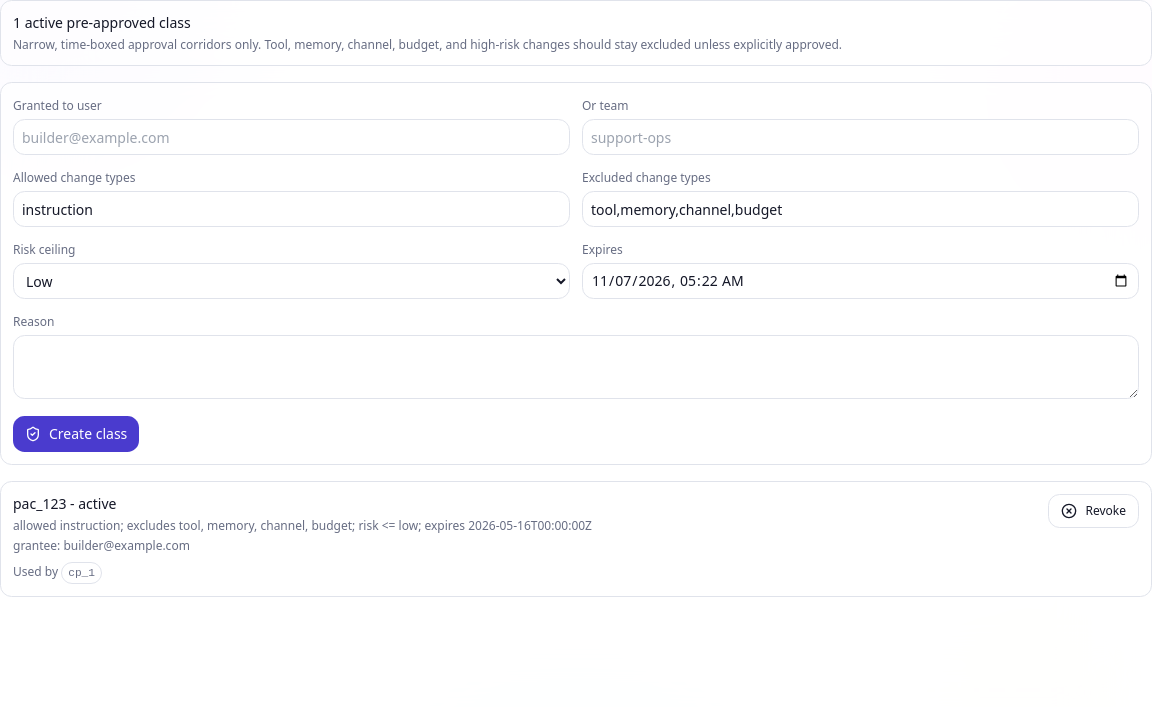
Test: PreApprovedClassesPanel › creates narrow pre-approved classes and revokes active classes
Expected: the list item with test id "preapproved-class-pac_123" shows "risk <= low", 0,481 -> 1151,597
Expected: the element with test id "preapproved-usage-pac_123" shows "Used by", 13,563 -> 61,580
Type "owner@example.com" into the field with test id "preapproved-user" at coordinates (292, 137), box 13,119 -> 570,155
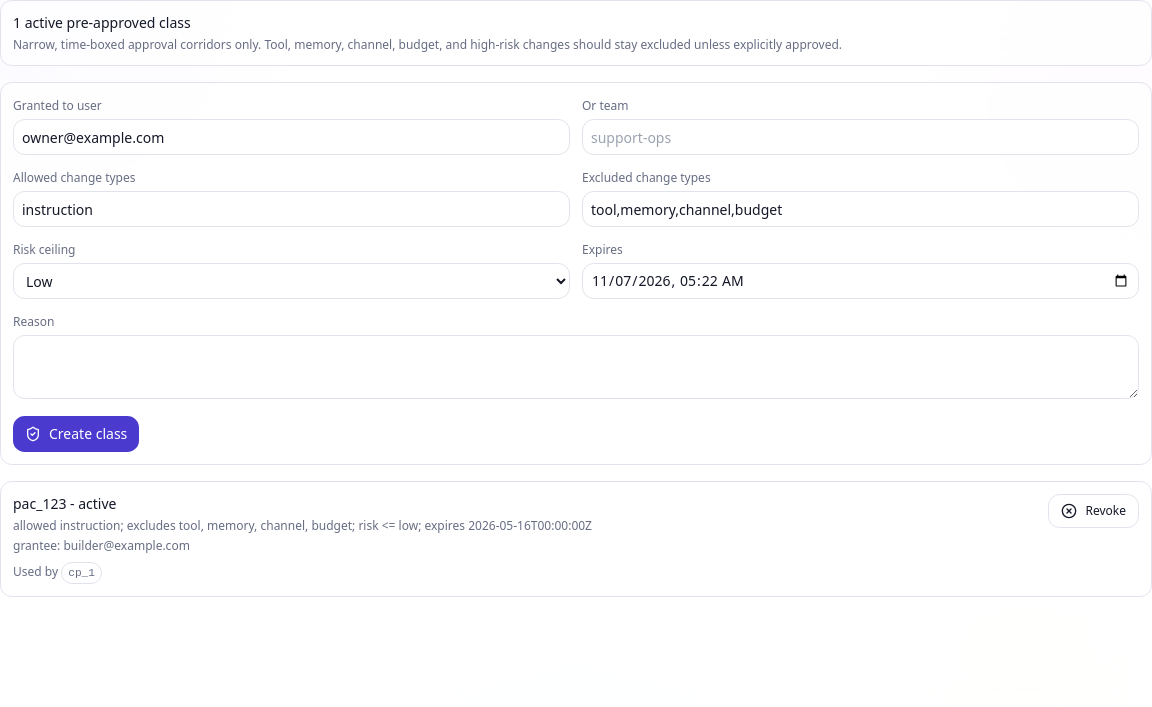
Replace the text in the field with test id "preapproved-allowed" with "instruction,tone" at coordinates (292, 209), box 13,191 -> 570,227
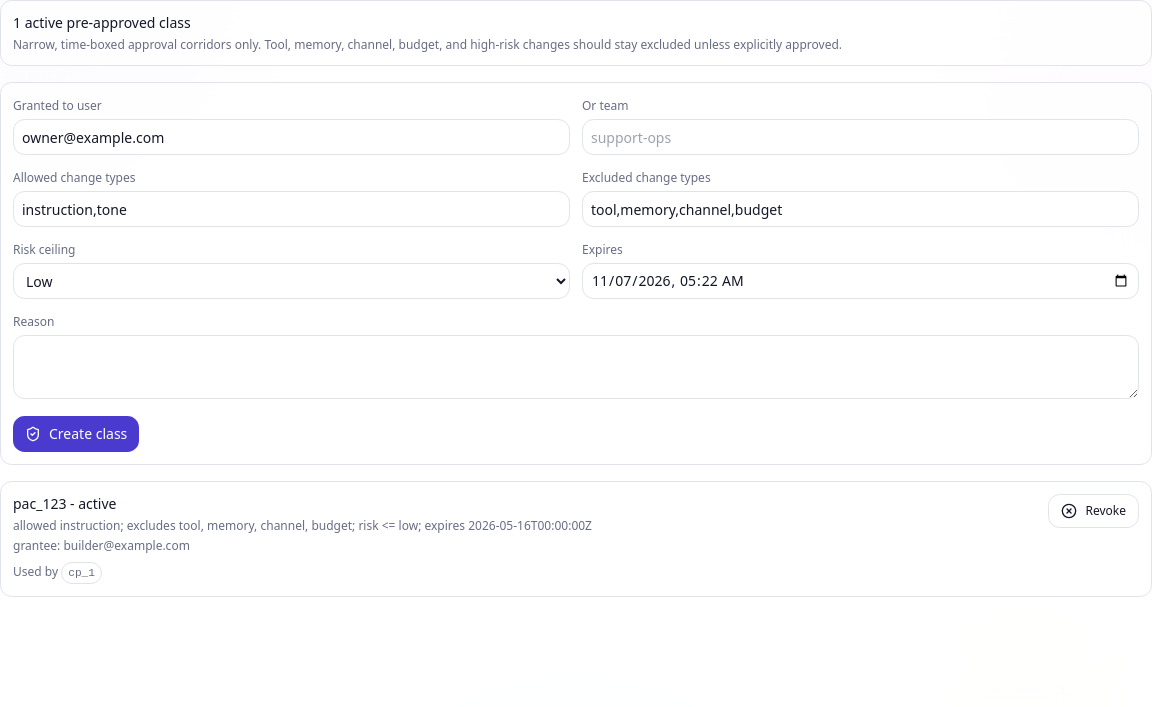
Replace the text in the field with test id "preapproved-excluded" with "tool" at coordinates (860, 209), box 582,191 -> 1139,227
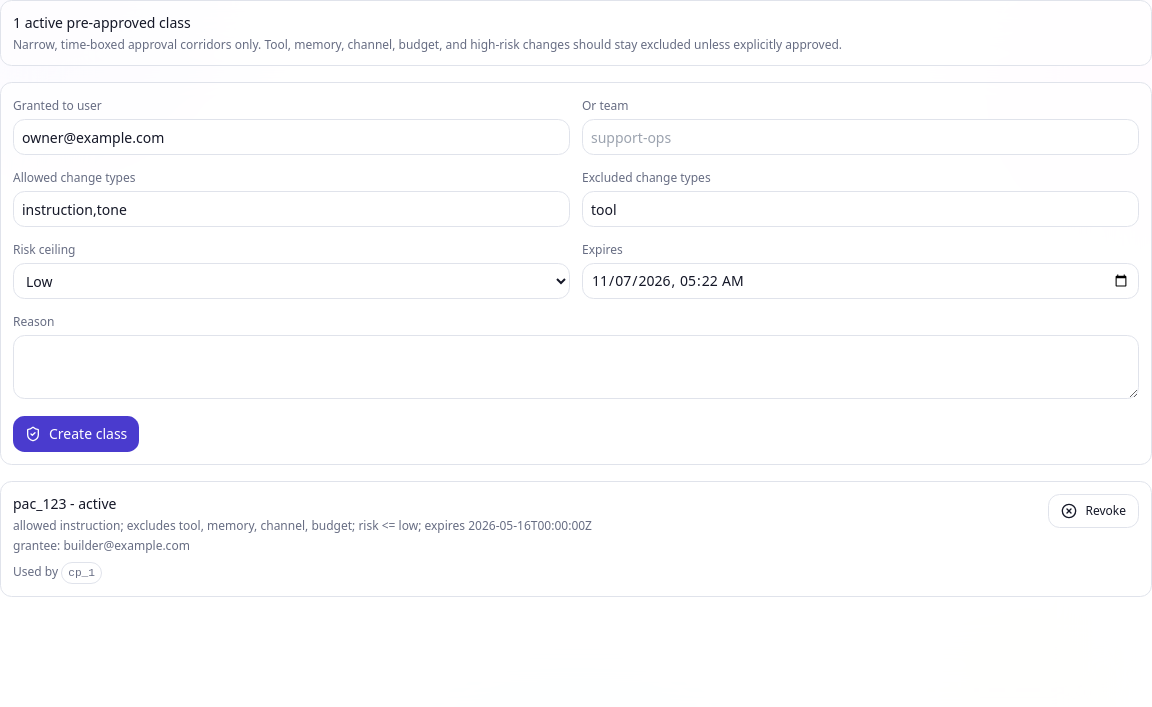
Type "Copy-only launch window." into the text box with test id "preapproved-reason" at coordinates (576, 367), box 13,335 -> 1139,399
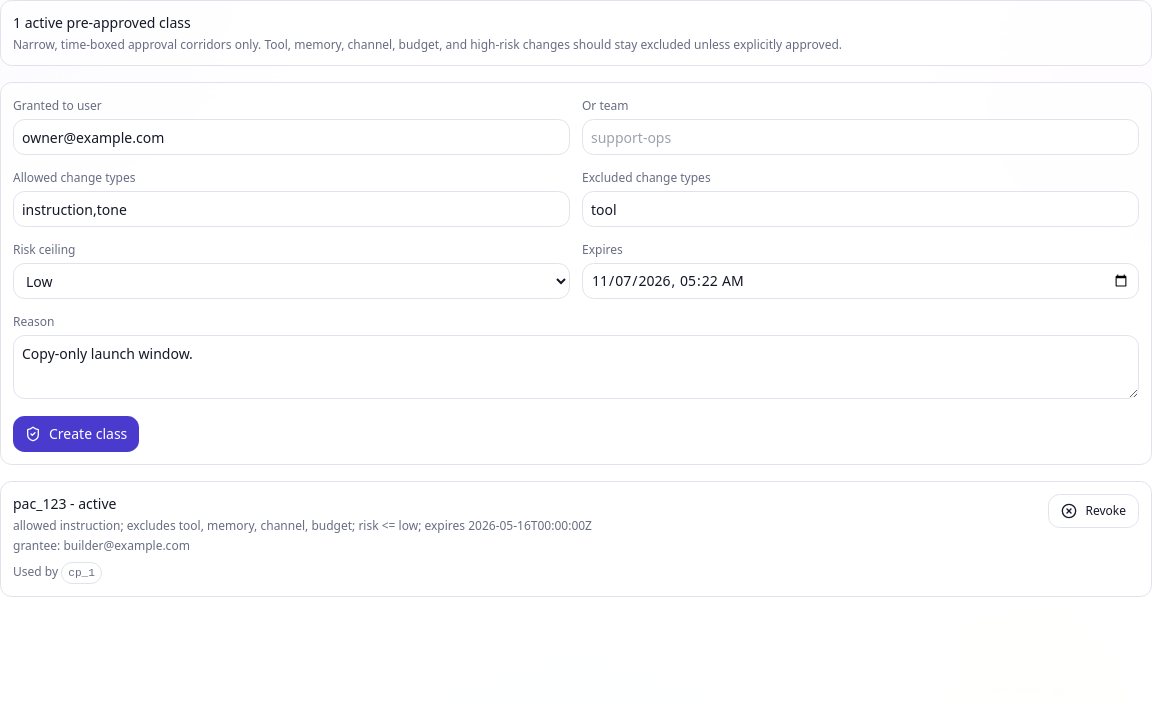
Click the button with test id "preapproved-create" at coordinates (76, 434), box 13,416 -> 139,452
(page scrolled)
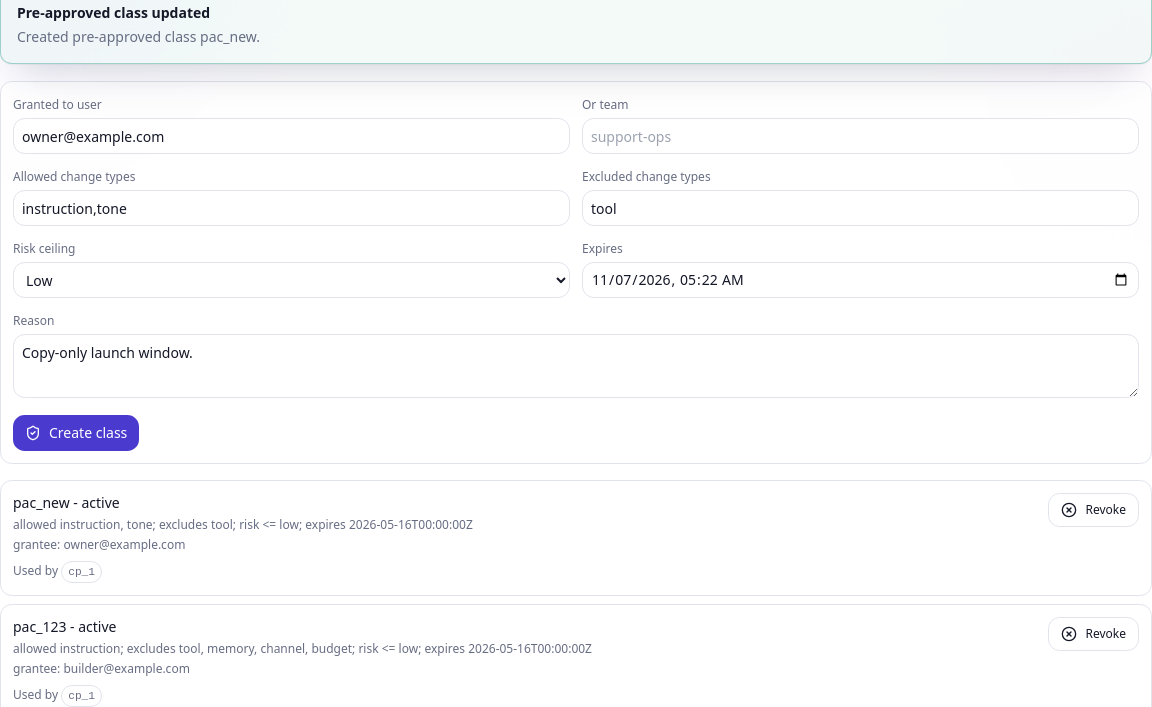
Result: the text "Created pre-approved class pac_new." is shown at 17,27 -> 260,47
Click the button with test id "preapproved-revoke-pac_123" at coordinates (1094, 634), box 1048,617 -> 1139,651
(page scrolled)
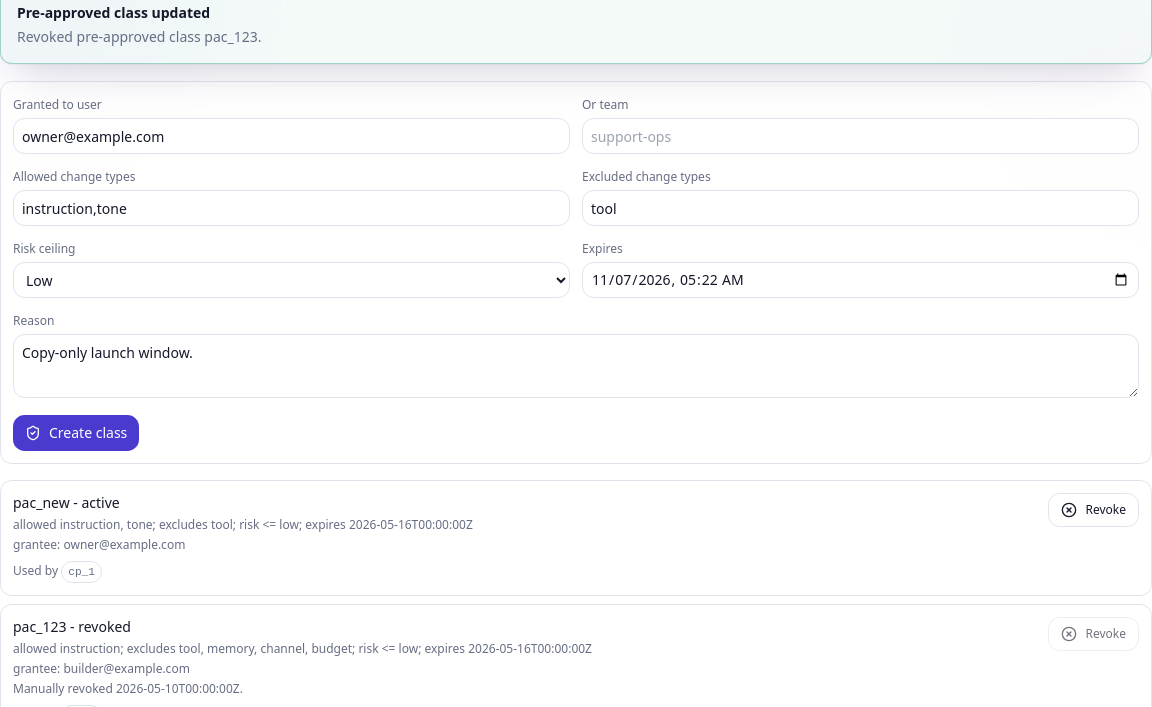
Result: the text "Revoked pre-approved class pac_123." is shown at 17,27 -> 262,47
